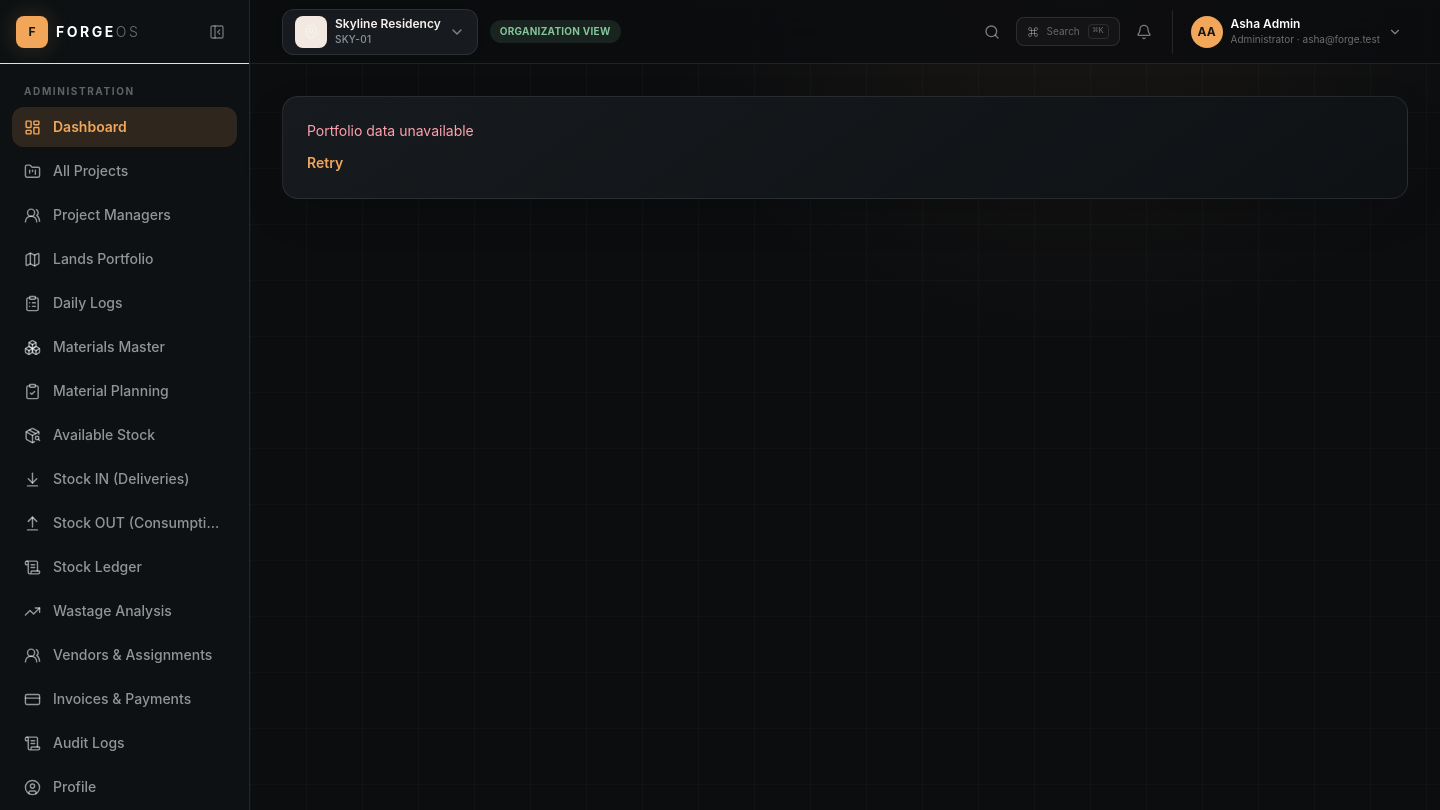
Test: AdminDashboardPage › shows the error card with a working Retry when the dashboard API fails
Expected: the message reads "Portfolio data unavailable", [307, 122, 474, 139]
Click the button "Retry": [325, 163] box [307, 153, 343, 173]
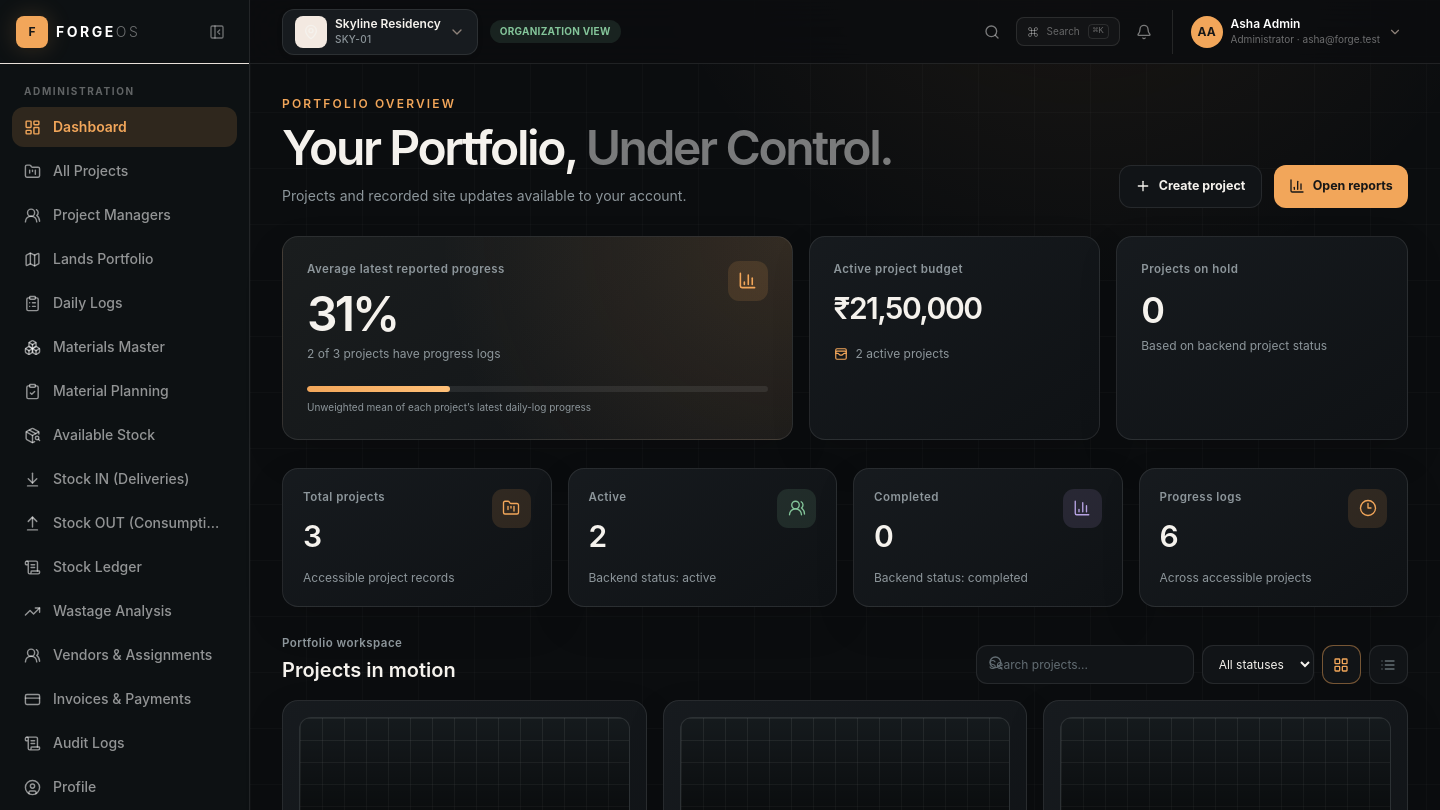
Now the heading "Your Portfolio, Under Control." is shown, box [282, 124, 892, 172]
